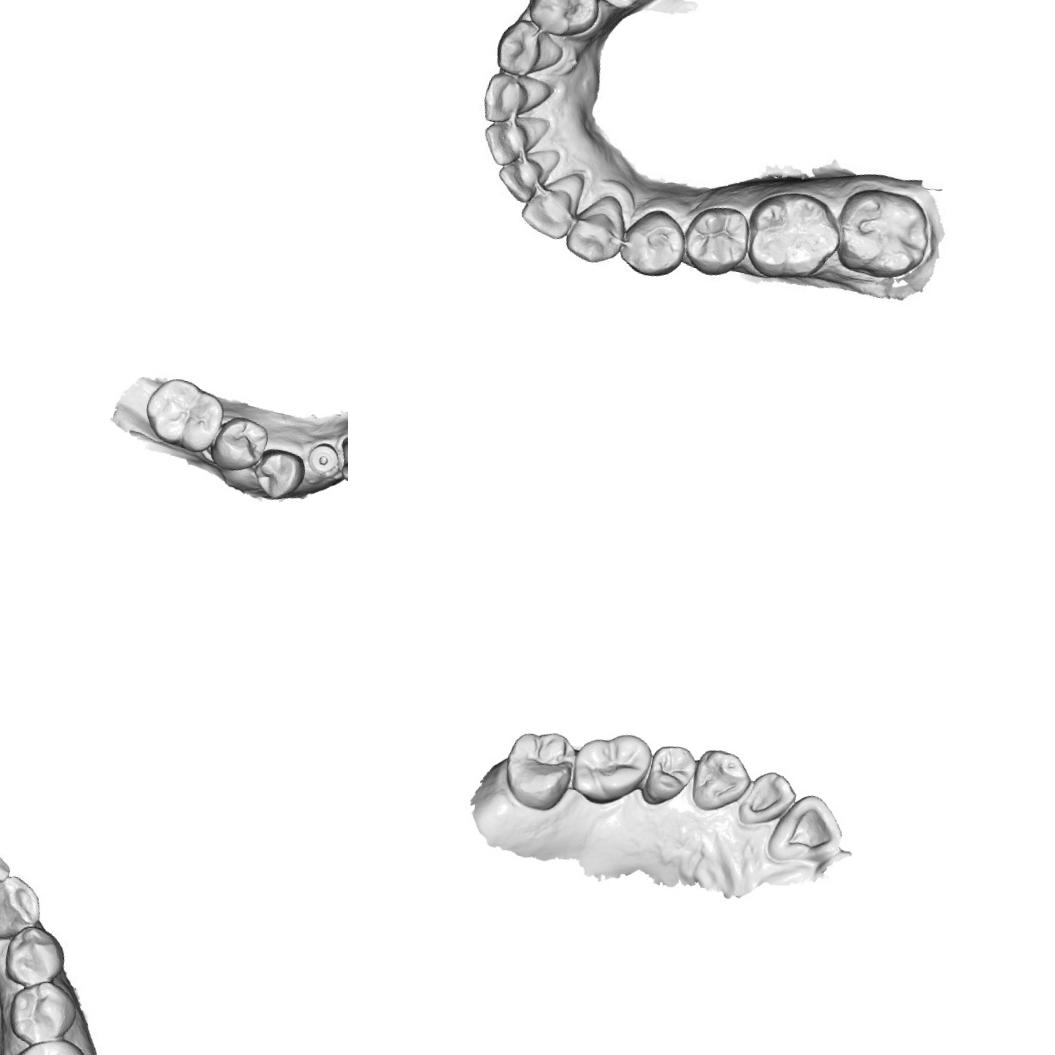canine: (562, 186, 630, 269), (492, 12, 570, 82), (685, 744, 756, 820), (0, 869, 46, 948)
implant: (303, 439, 342, 481)
incisor: (762, 786, 852, 875), (515, 166, 590, 245), (475, 105, 550, 178), (474, 65, 551, 133), (492, 142, 564, 212), (734, 764, 802, 834), (334, 433, 348, 486)
molar: (739, 182, 852, 296), (831, 181, 938, 292), (566, 722, 656, 814), (496, 722, 582, 816), (138, 370, 228, 458), (0, 1032, 105, 1055)
premolar: (2, 974, 81, 1055), (680, 201, 756, 283), (0, 919, 70, 994), (618, 205, 687, 281), (640, 740, 700, 812), (210, 412, 272, 477), (250, 443, 308, 504), (525, 0, 609, 41)
